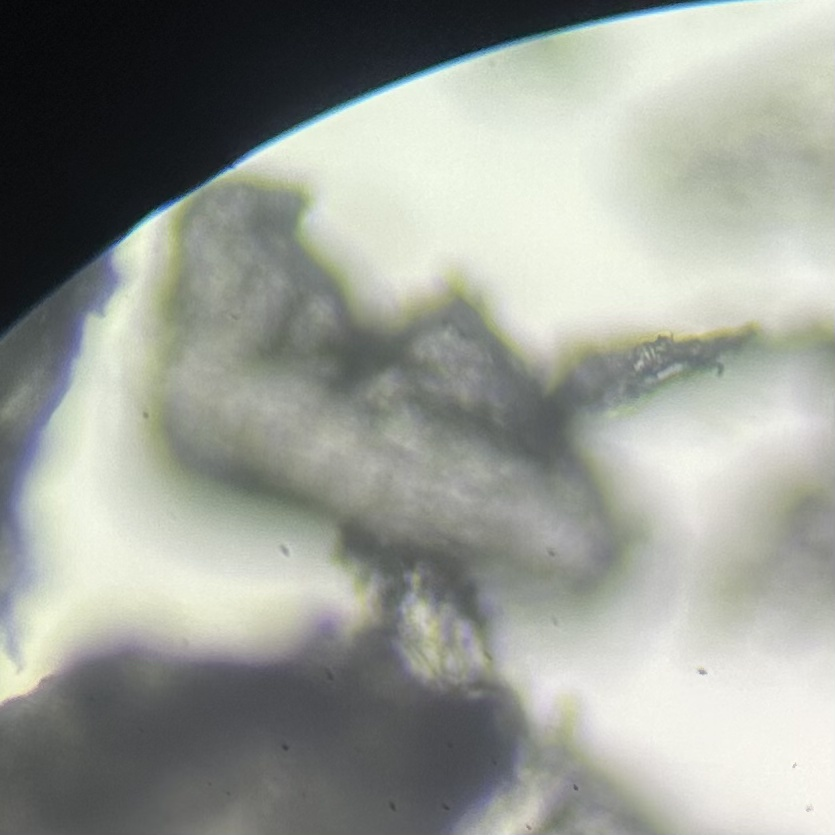microplastic: (160, 176, 615, 599), (1, 613, 665, 834), (1, 249, 125, 679), (330, 517, 508, 704), (532, 319, 769, 430)
